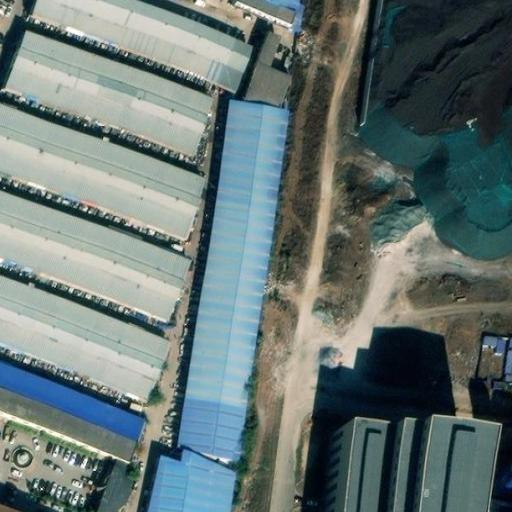building: (172, 109, 288, 473), (0, 200, 183, 327), (26, 0, 246, 100), (0, 288, 159, 408), (321, 425, 474, 512), (144, 463, 235, 512), (362, 195, 431, 250), (242, 35, 288, 117), (486, 420, 512, 508), (229, 0, 295, 32)
